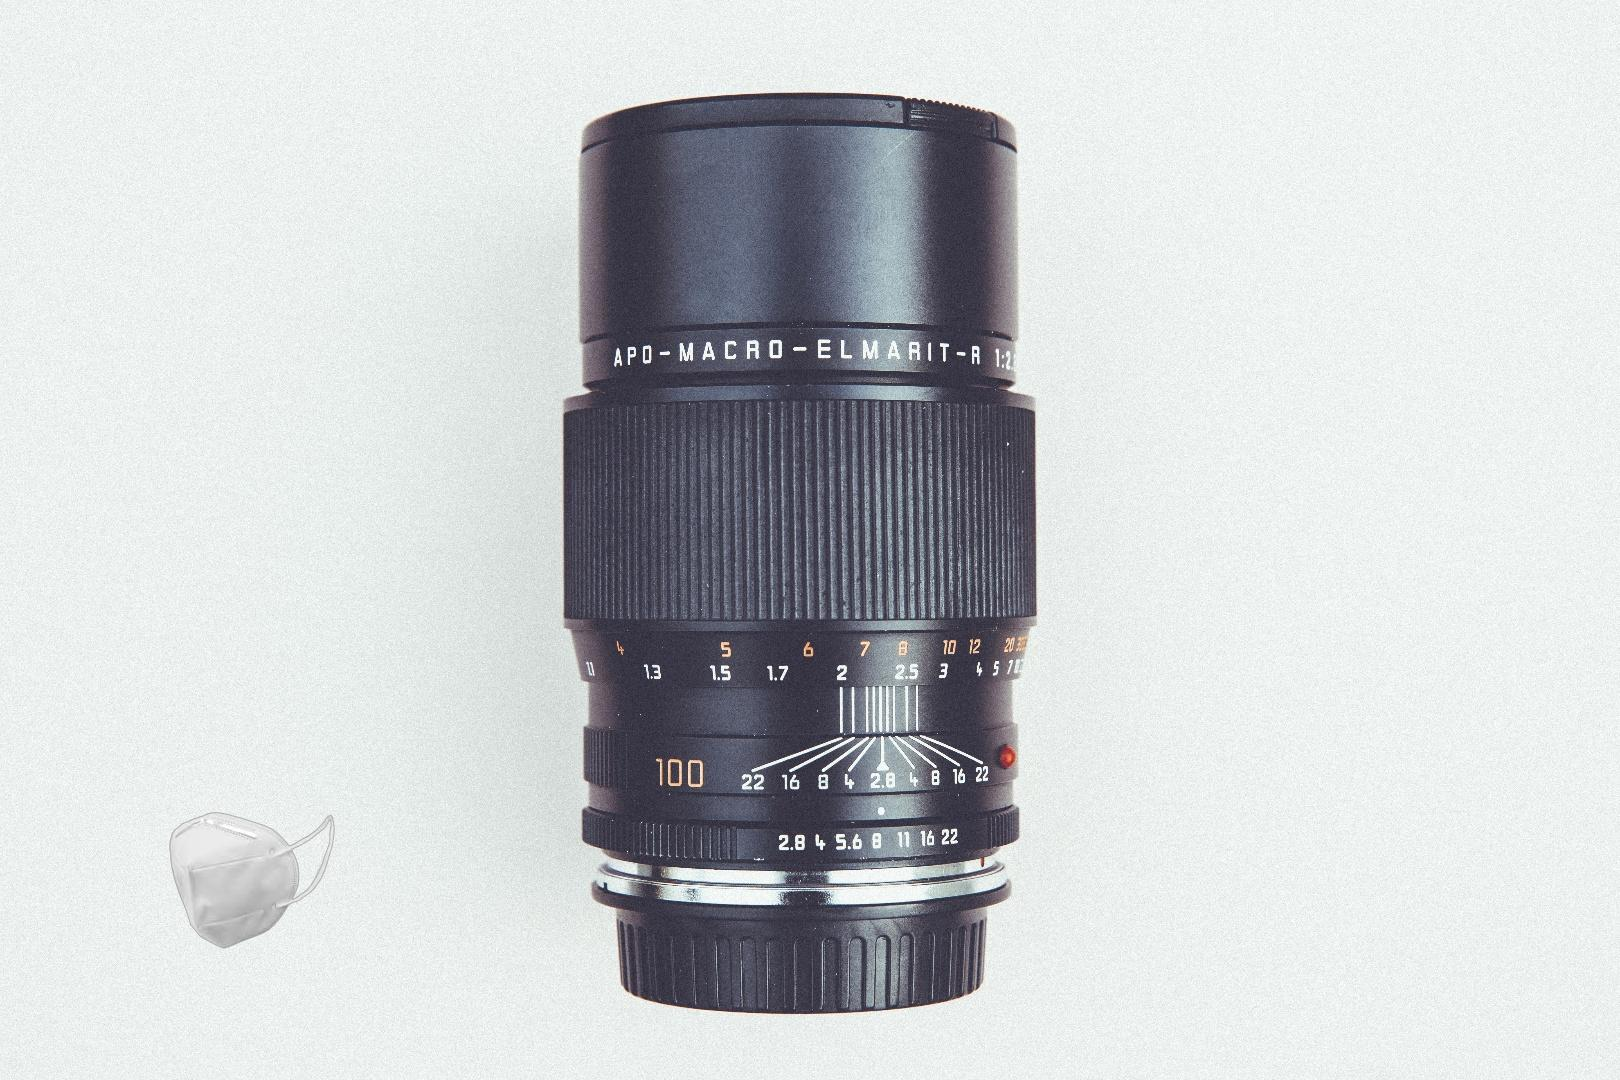biological: (1160, 1064, 1620, 1080)
trash: (168, 810, 337, 951)
